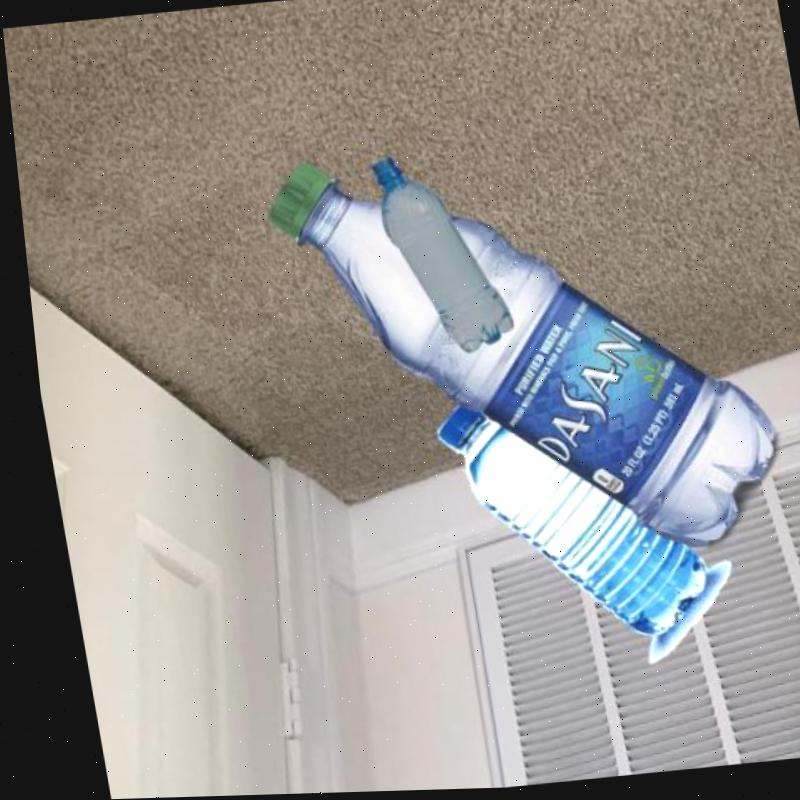botella: (254, 127, 791, 585), (420, 382, 703, 654), (363, 145, 510, 362)
